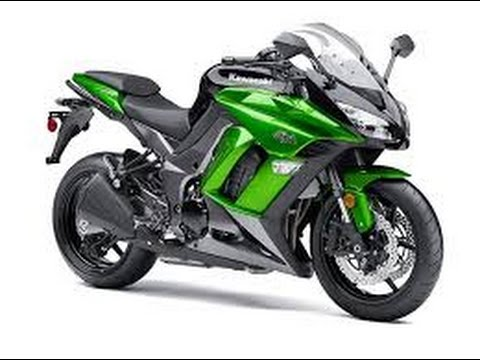motorcycle: (49, 31, 444, 324)
